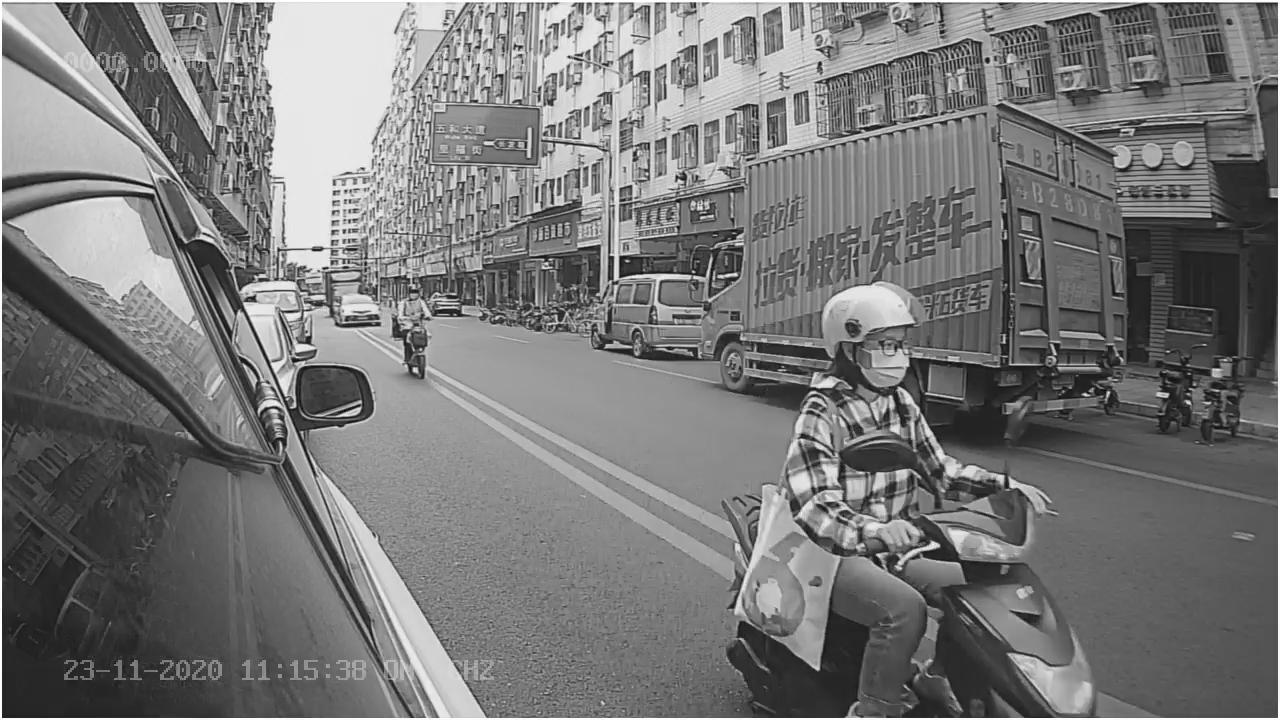person: (781, 281, 1049, 513)
